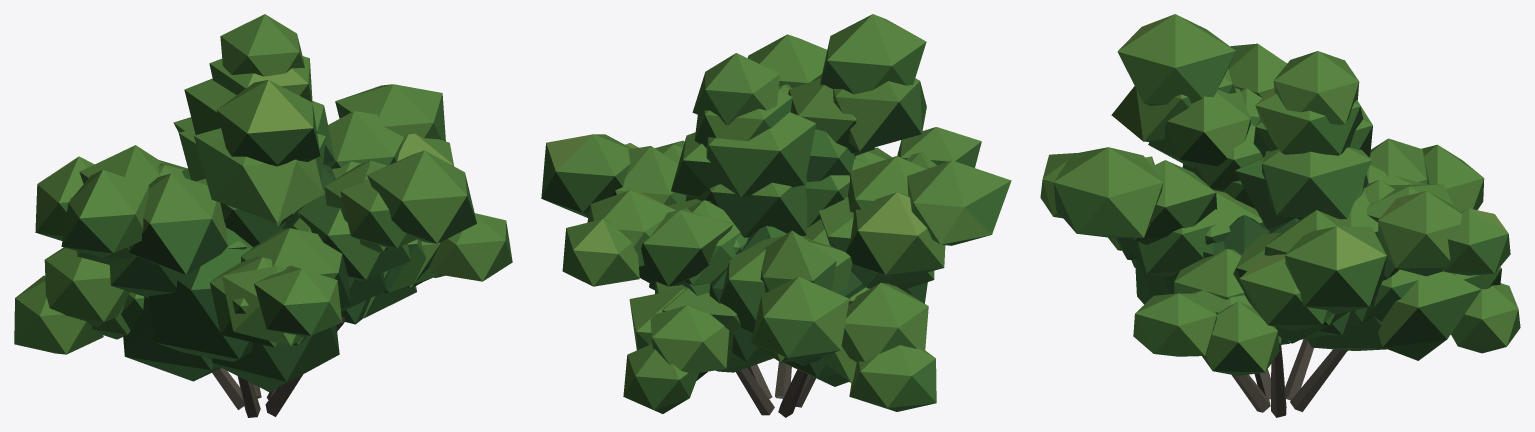
The model's file is bush.glb.
The picture shows the model from 3 angles, left to right: view 1: azimuth 30°, elevation 25°; view 2: azimuth 150°, elevation 25°; view 3: azimuth 270°, elevation 25°; orthographic projection. The views are drawn at different scales.
Visible parts, largest first — view 1: Bush; view 2: Bush; view 3: Bush.
Boxes of the visible parts, x1,y1,x2,y2 form: Bush: (14, 14, 512, 417); Bush: (541, 14, 1011, 417); Bush: (1040, 14, 1520, 417).
Size of the model in its own units: 2 by 1.72 by 2.
